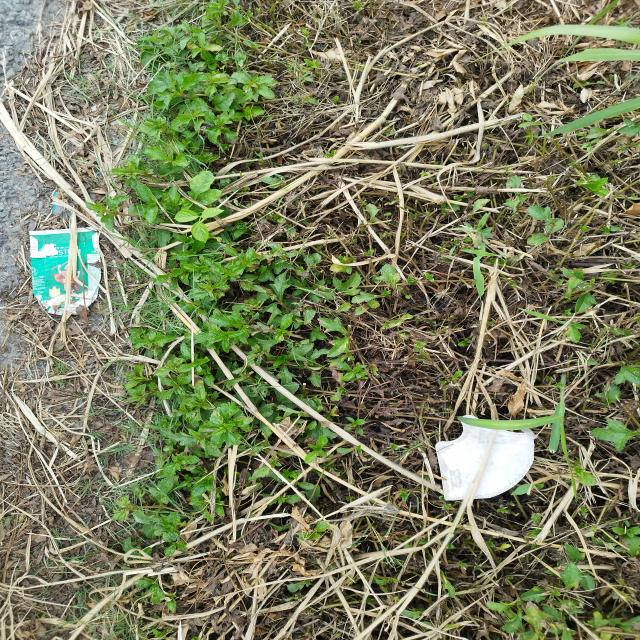mask: (436, 415, 534, 500)
milk box: (29, 227, 101, 315)
